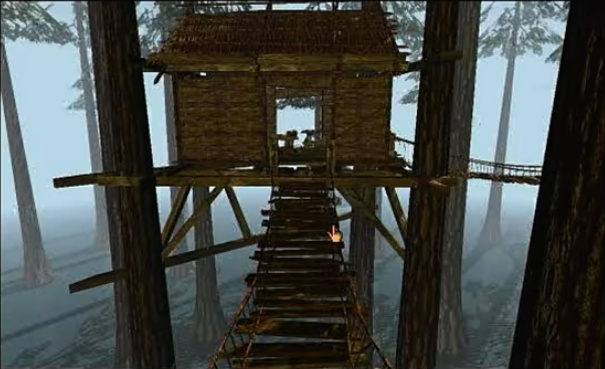Pointer: (324, 222, 347, 244)
